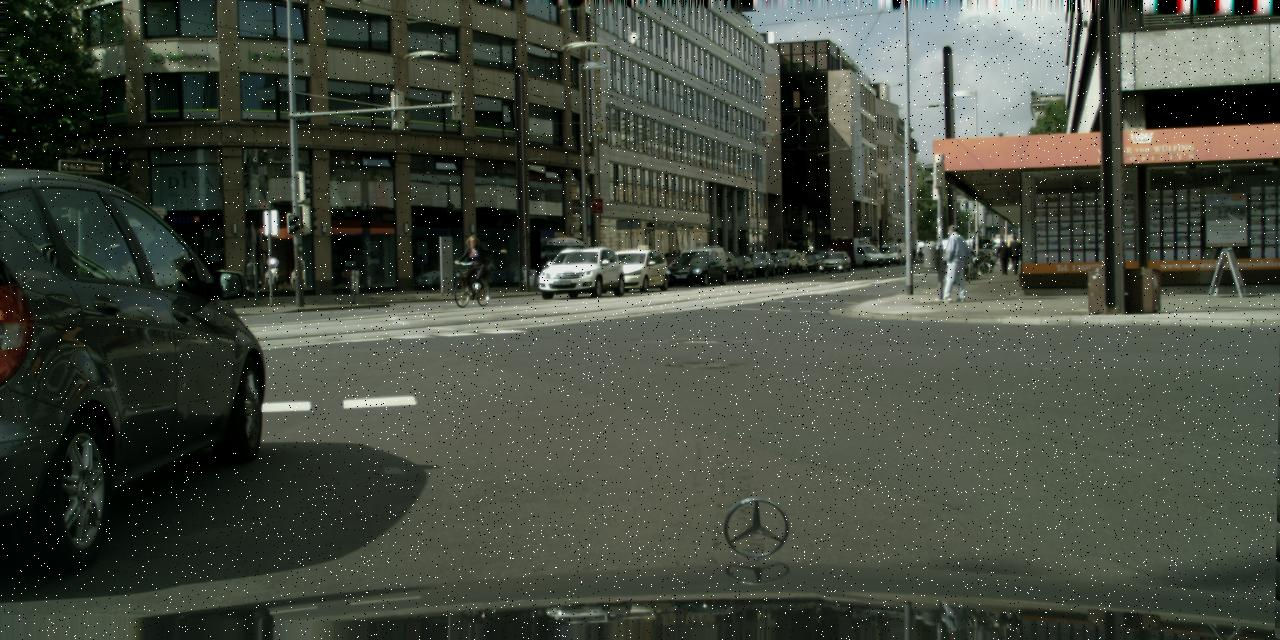ped: (938, 224, 969, 300), (462, 235, 487, 294), (1007, 236, 1022, 274), (996, 240, 1010, 274), (736, 249, 743, 267), (911, 248, 915, 260), (918, 249, 922, 259)
